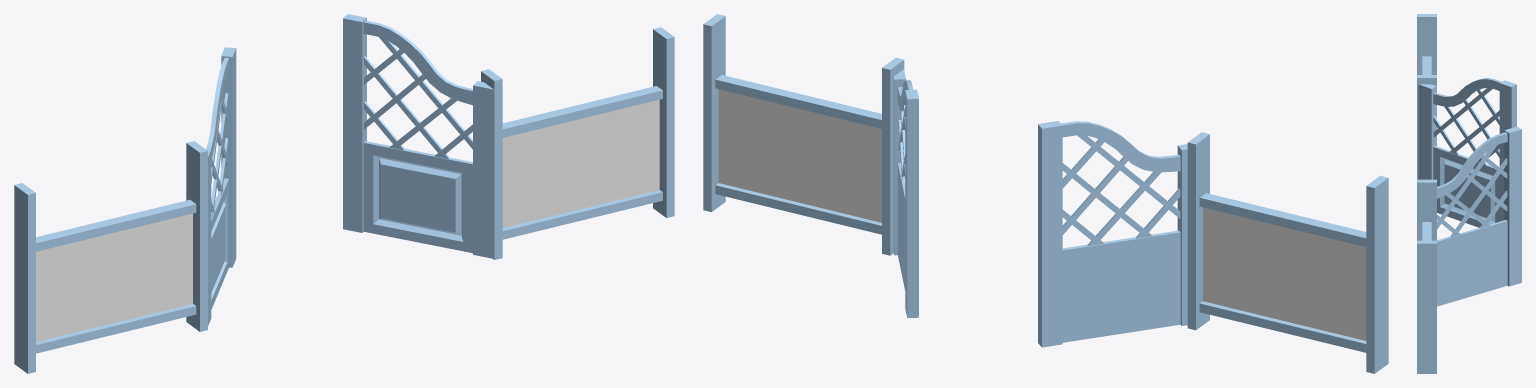
The model's file is M_Dogdoor01.FBX.
3 views of the same model, side by side, from view 1: azimuth 30°, elevation 25°; view 2: azimuth 150°, elevation 25°; view 3: azimuth 270°, elevation 25° (orthographic). The views are drawn at different scales.
Parts seen in each view (by area): view 1: M_Dogdoor01_01, M_Dogdoor01_02; view 2: M_Dogdoor01_01, M_Dogdoor01_02; view 3: M_Dogdoor01_01.
Boxes of the visible parts, left/top/right/bottom form: M_Dogdoor01_01: left=14, top=14, right=674, bottom=373; M_Dogdoor01_02: left=36, top=99, right=659, bottom=341; M_Dogdoor01_01: left=703, top=14, right=1388, bottom=373; M_Dogdoor01_02: left=718, top=89, right=1366, bottom=340; M_Dogdoor01_01: left=1417, top=14, right=1521, bottom=373.
Size of the model in its own units: 8.96 by 2.8 by 1.73.
